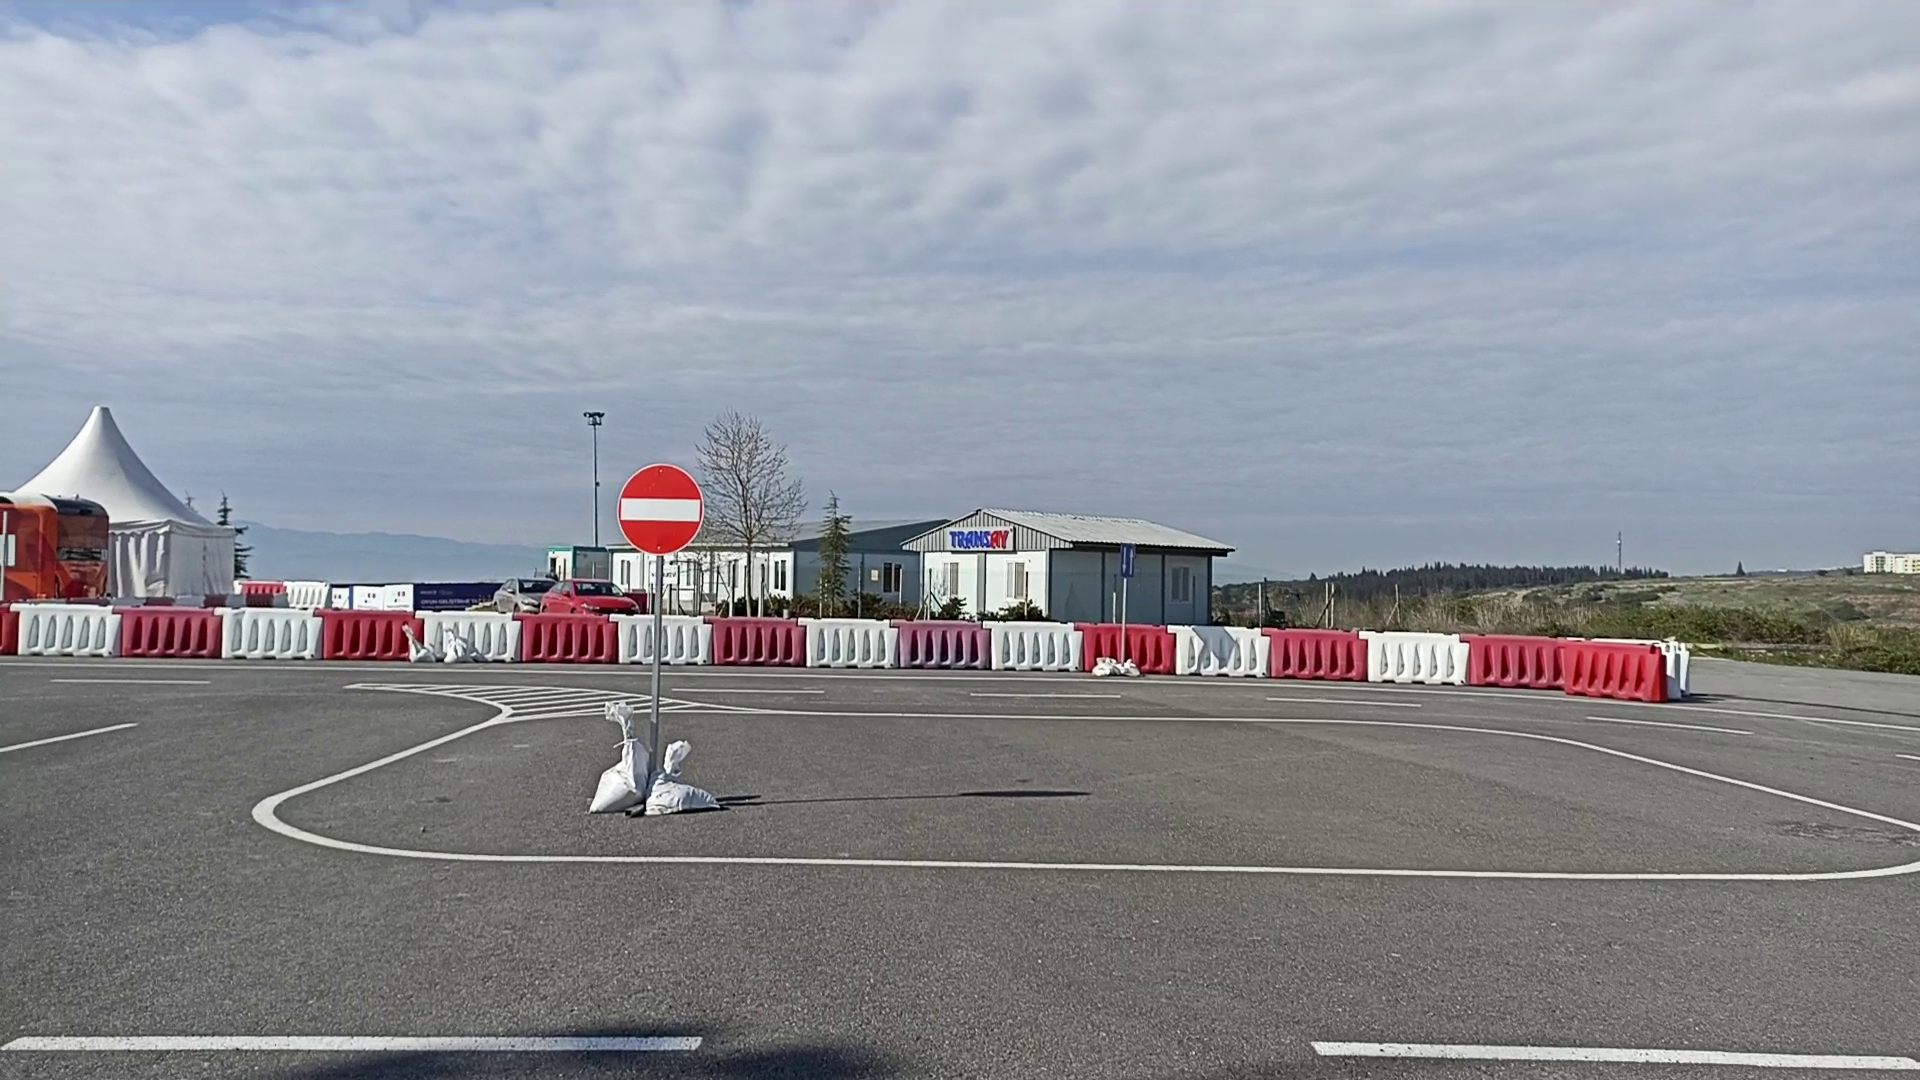noentryway: (615, 458, 708, 556)
